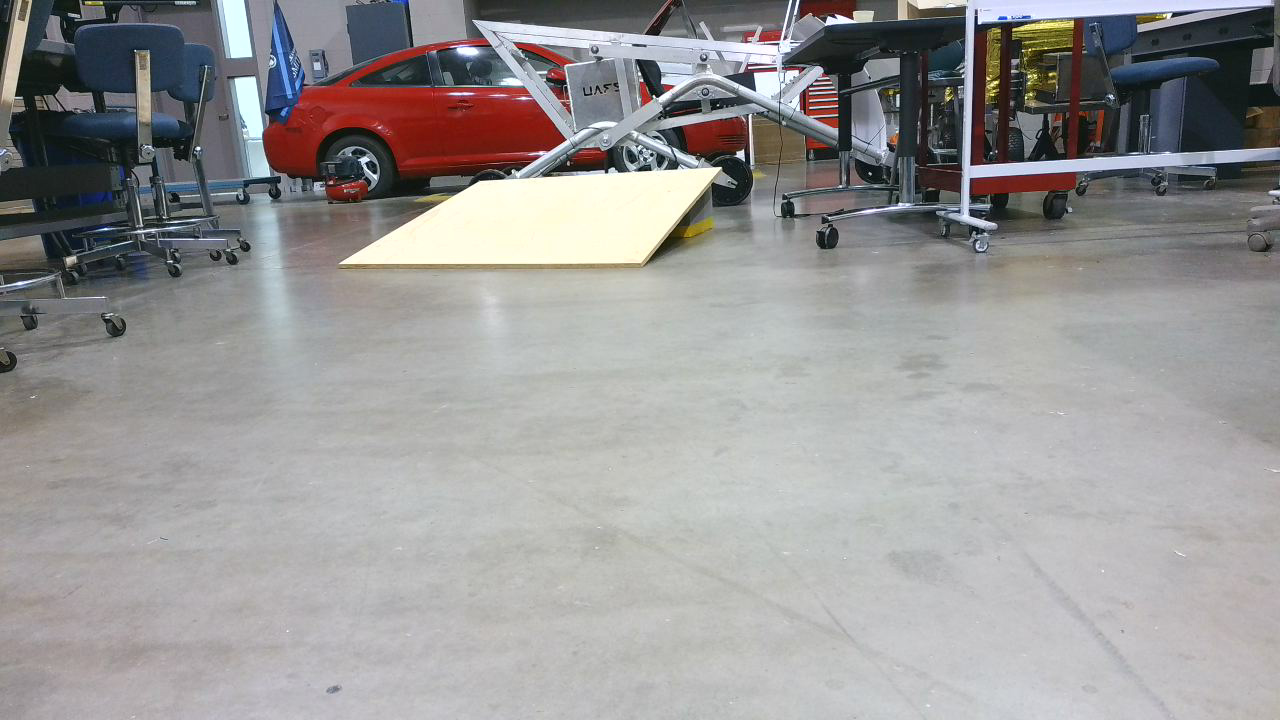concrete_block: (334, 170, 730, 274)
